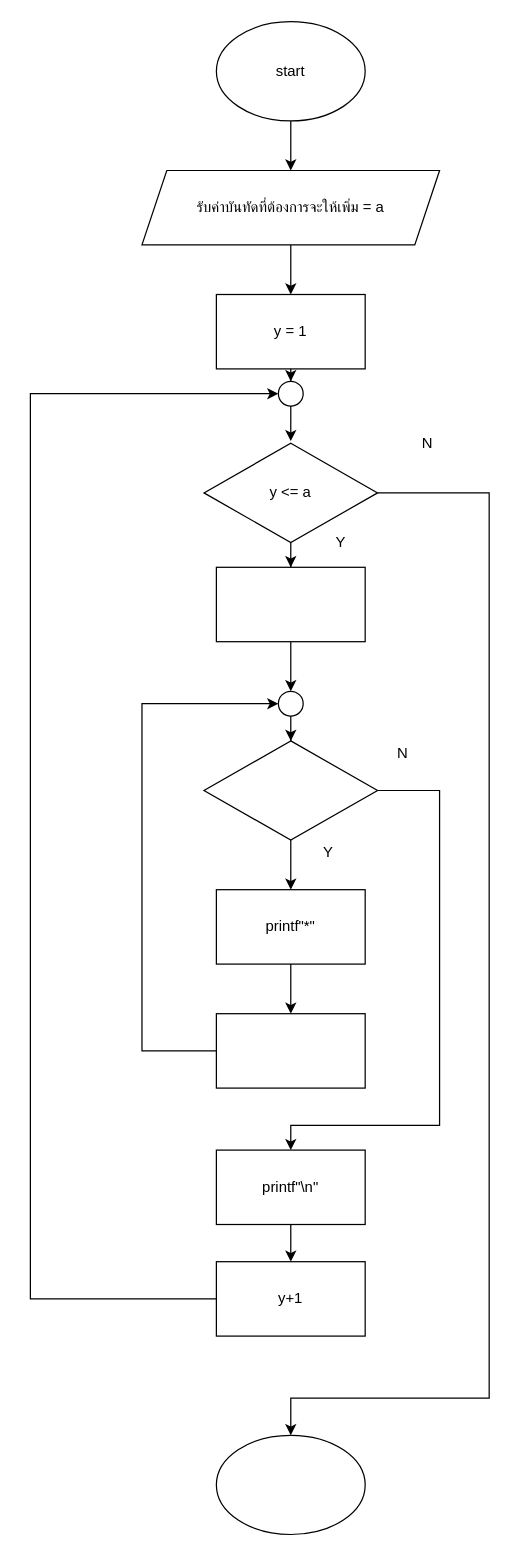
The diagram is 521 pixels wide and 1556 high, and some of its shapes have lost their labels. Each missing label, with the box of its shape:
END: (215, 1434, 365, 1534)
x <= a: (203, 740, 378, 840)
x = 1: (215, 566, 365, 642)
x+1: (215, 1012, 365, 1088)
